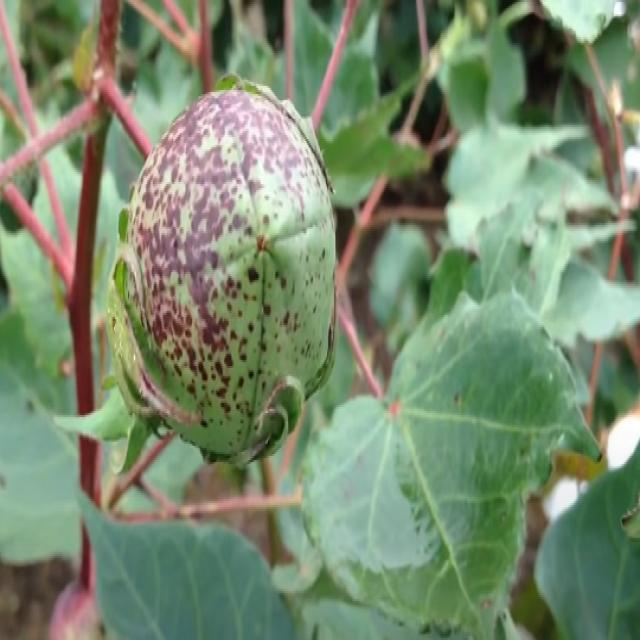Early Boll: (106, 83, 342, 451)
